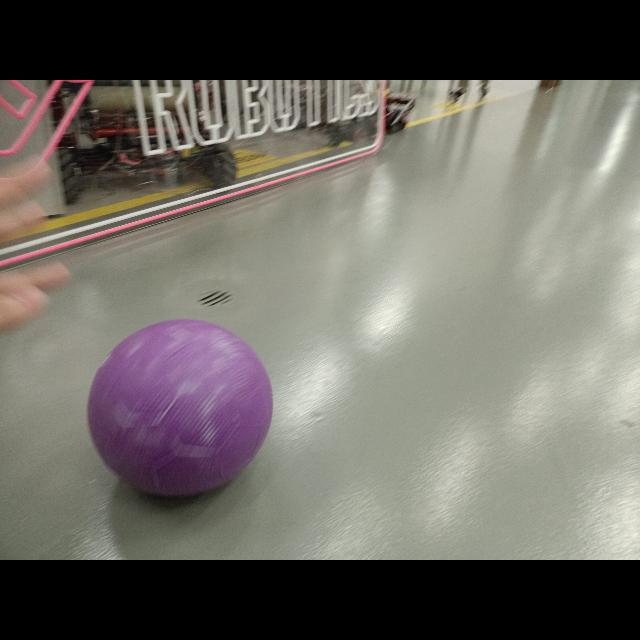P: (85, 317, 273, 498)
